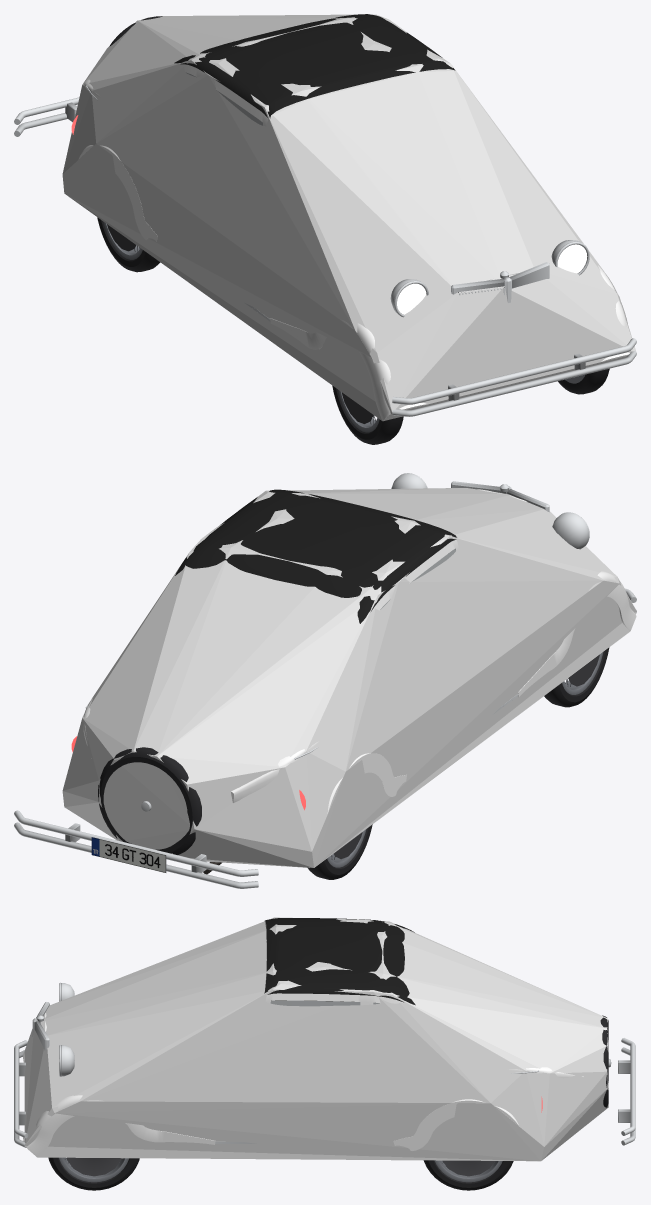
File: bosfor_galata_lod0.glb
The picture shows the model from 3 angles, top to bottom: view 1: azimuth 30°, elevation 25°; view 2: azimuth 150°, elevation 25°; view 3: azimuth 270°, elevation 25°; orthographic projection. The views are drawn at different scales.
Parts seen in each view (by area): view 1: col_body, trim, exhaust, body, wheel_FR, lights_front, wheel_RR, wheel_FL; view 2: col_body, trim, exhaust, body, plate_rear, wheel_FR, wheel_RR; view 3: col_body, trim, body, exhaust, wheel_FL, wheel_RL, brake_FL, brake_RL, glass.
Part boxes in pixels (x1,y1,x2,y2): col_body: [62, 14, 635, 421]; trim: [109, 14, 504, 292]; exhaust: [14, 85, 636, 416]; body: [78, 64, 629, 420]; wheel_FR: [332, 385, 403, 444]; lights_front: [397, 244, 587, 314]; wheel_RR: [97, 217, 160, 272]; wheel_FL: [558, 368, 609, 394]; col_body: [62, 488, 636, 867]; trim: [98, 489, 456, 854]; exhaust: [14, 473, 636, 888]; body: [83, 489, 636, 813]; plate_rear: [91, 837, 166, 872]; wheel_FR: [544, 647, 609, 707]; wheel_RR: [307, 824, 372, 879]; col_body: [24, 917, 608, 1161]; trim: [264, 918, 608, 1107]; body: [23, 920, 583, 1157]; exhaust: [14, 982, 635, 1147]; wheel_FL: [48, 1157, 139, 1190]; wheel_RL: [423, 1160, 513, 1190]; brake_FL: [66, 1157, 121, 1176]; brake_RL: [442, 1160, 494, 1176]; glass: [271, 1000, 379, 1005].
Size of the model in its own units: 1.74 by 1.69 by 4.74.
11 materials, 1 textured.
